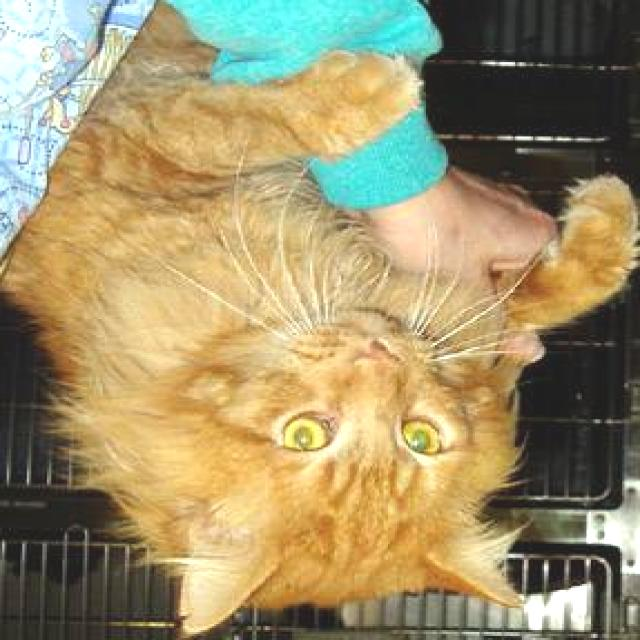Kucing: (62, 256, 581, 632)
